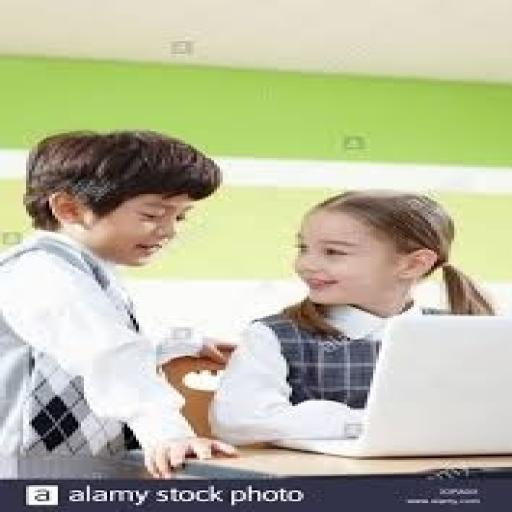using_laptop: (266, 313, 509, 458)
